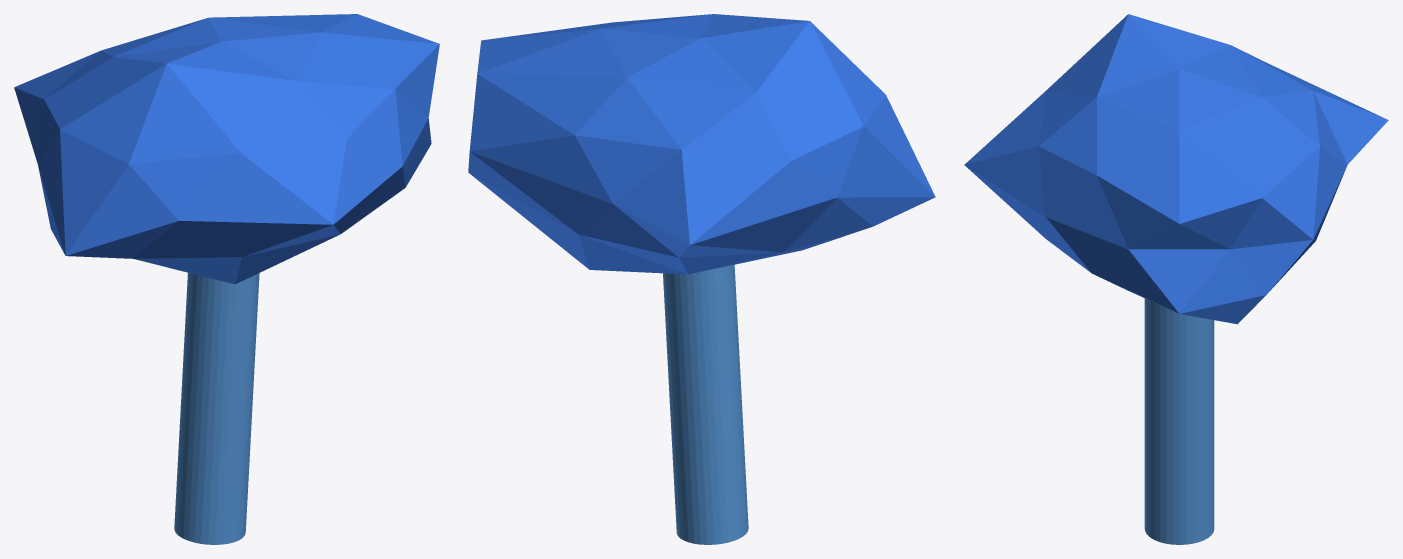
Rendered from bluetree.glb.
The picture shows the model from 3 angles, left to right: view 1: azimuth 30°, elevation 25°; view 2: azimuth 150°, elevation 25°; view 3: azimuth 270°, elevation 25°; orthographic projection. The views are drawn at different scales.
Visible parts, largest first — view 1: Icosphere, Cylinder; view 2: Icosphere, Cylinder; view 3: Icosphere, Cylinder.
Part boxes in pixels (x1,y1,x2,y2): Icosphere: (14, 14, 439, 284); Cylinder: (174, 272, 259, 544); Icosphere: (468, 14, 935, 274); Cylinder: (663, 264, 748, 544); Icosphere: (964, 14, 1388, 324); Cylinder: (1144, 298, 1214, 544).
Size of the model in its own units: 8.42 by 9.85 by 7.83.
